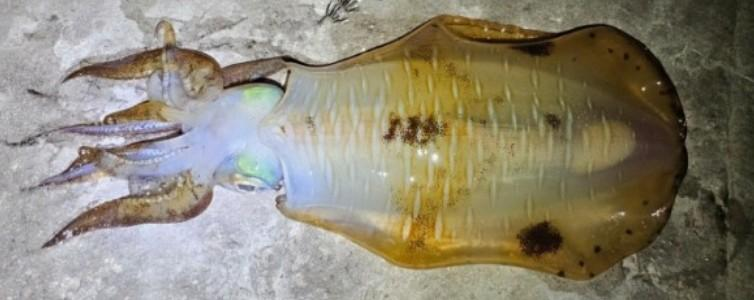Cephalopod: (17, 15, 688, 281)
